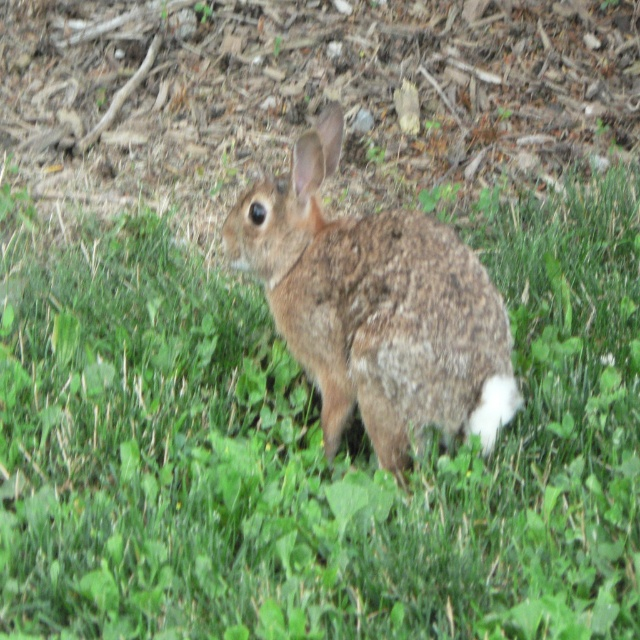Rabbit: (220, 101, 523, 503)
